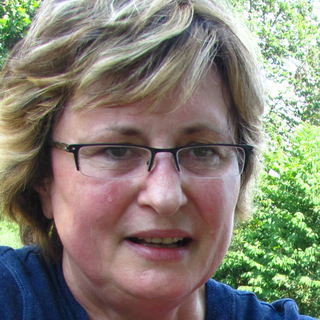eye: (92, 141, 139, 164), (175, 141, 221, 164)
